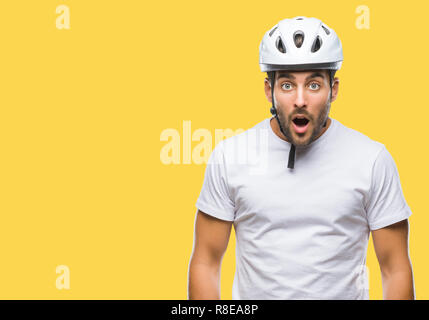helmet: (258, 16, 343, 147)
